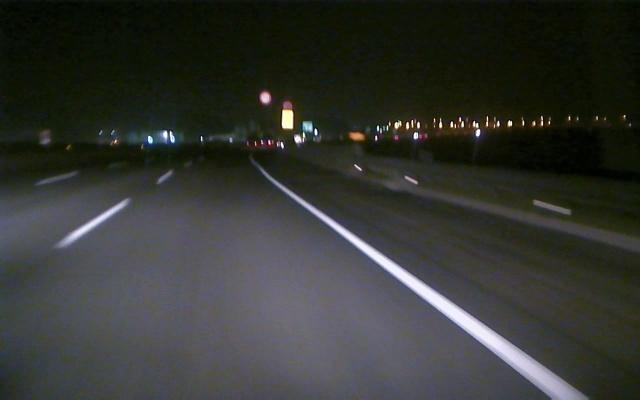lane: (270, 180, 591, 398), (51, 172, 172, 250)
